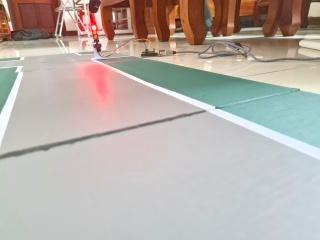red: (86, 20, 105, 46)
